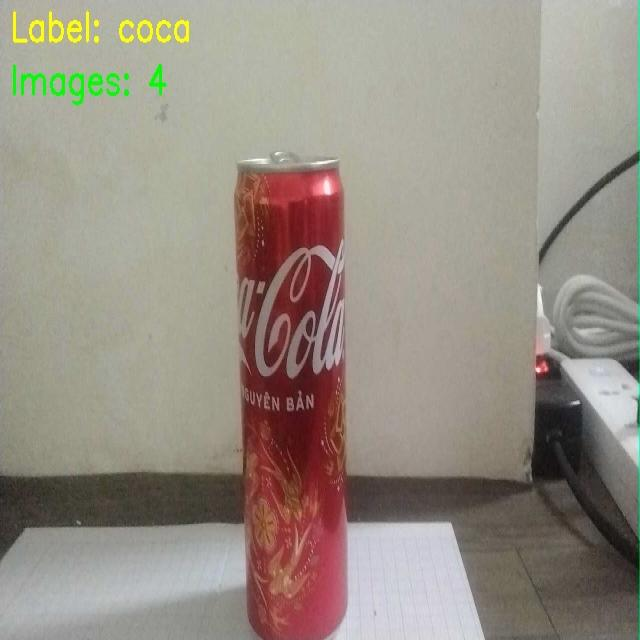Coca: (173, 112, 386, 640)
